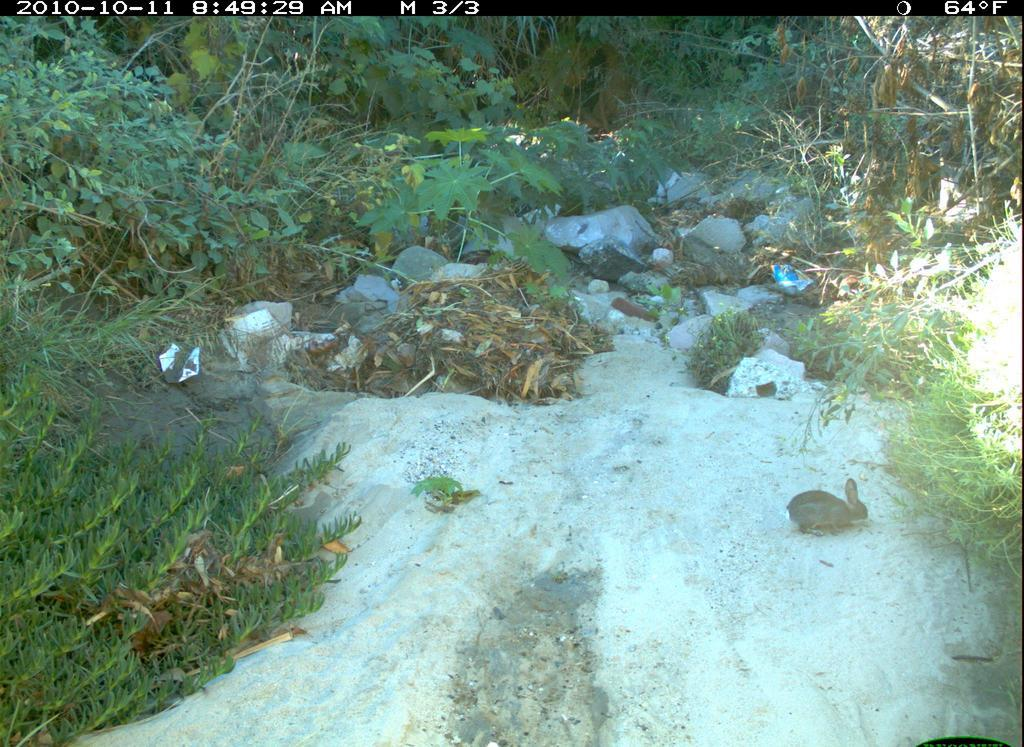rabbit: (784, 473, 877, 543)
